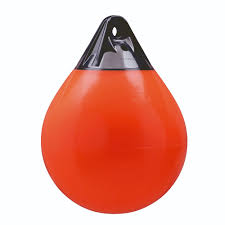buoy: (41, 70, 187, 213)
